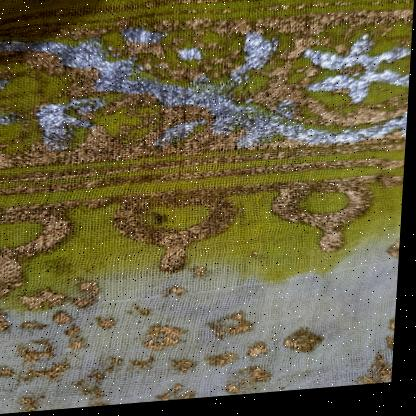spot: (251, 373, 331, 398), (49, 255, 108, 281), (147, 212, 178, 232)
